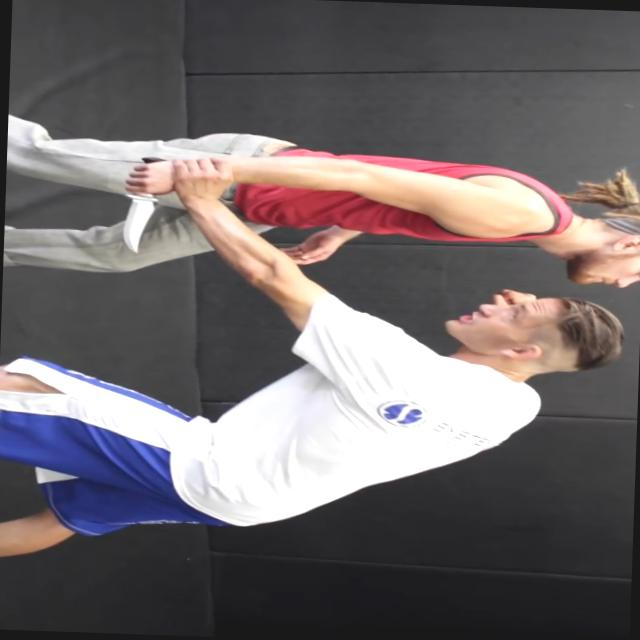knife: (111, 151, 177, 257)
